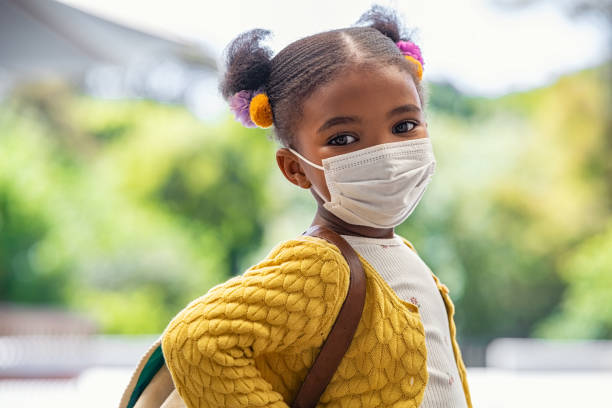with mask: (219, 43, 453, 231)
